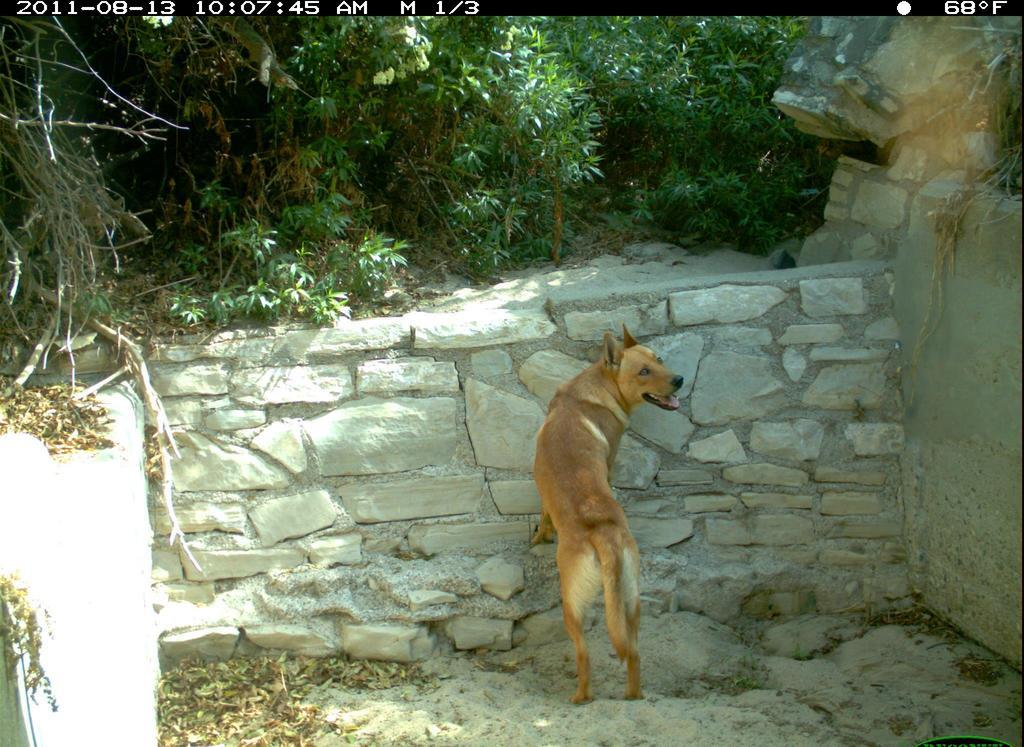dog: (528, 319, 694, 710)
